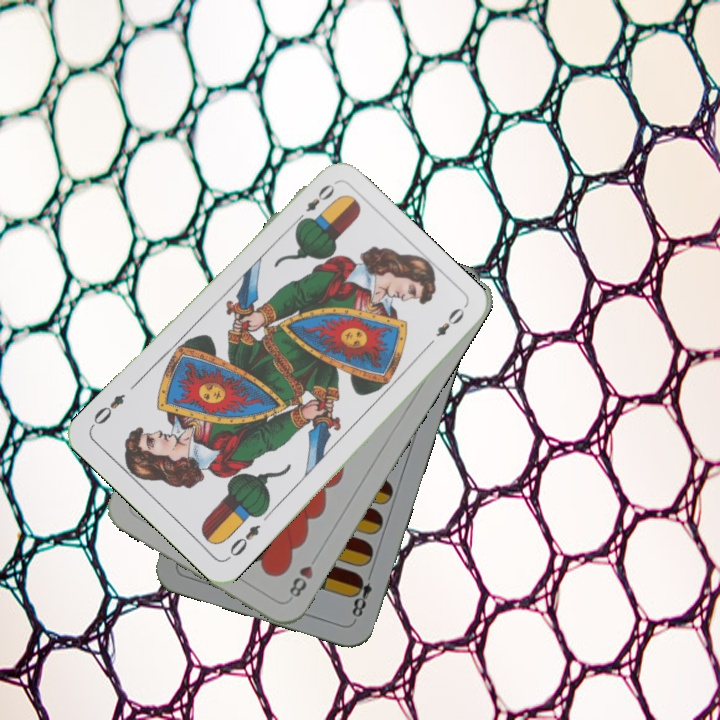E8: (347, 566, 376, 623)
EO: (291, 179, 338, 227), (222, 520, 263, 563)
H8: (285, 550, 322, 600)
